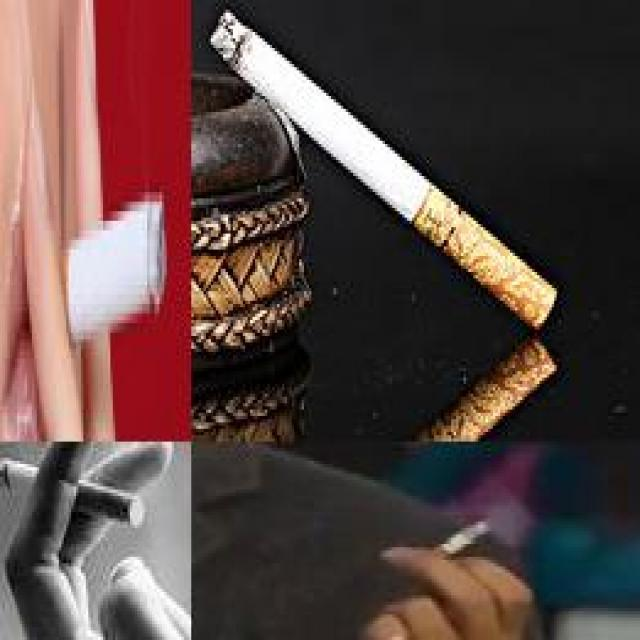cigarette: (206, 3, 559, 333), (35, 188, 168, 356), (0, 454, 145, 528), (424, 515, 492, 554)
